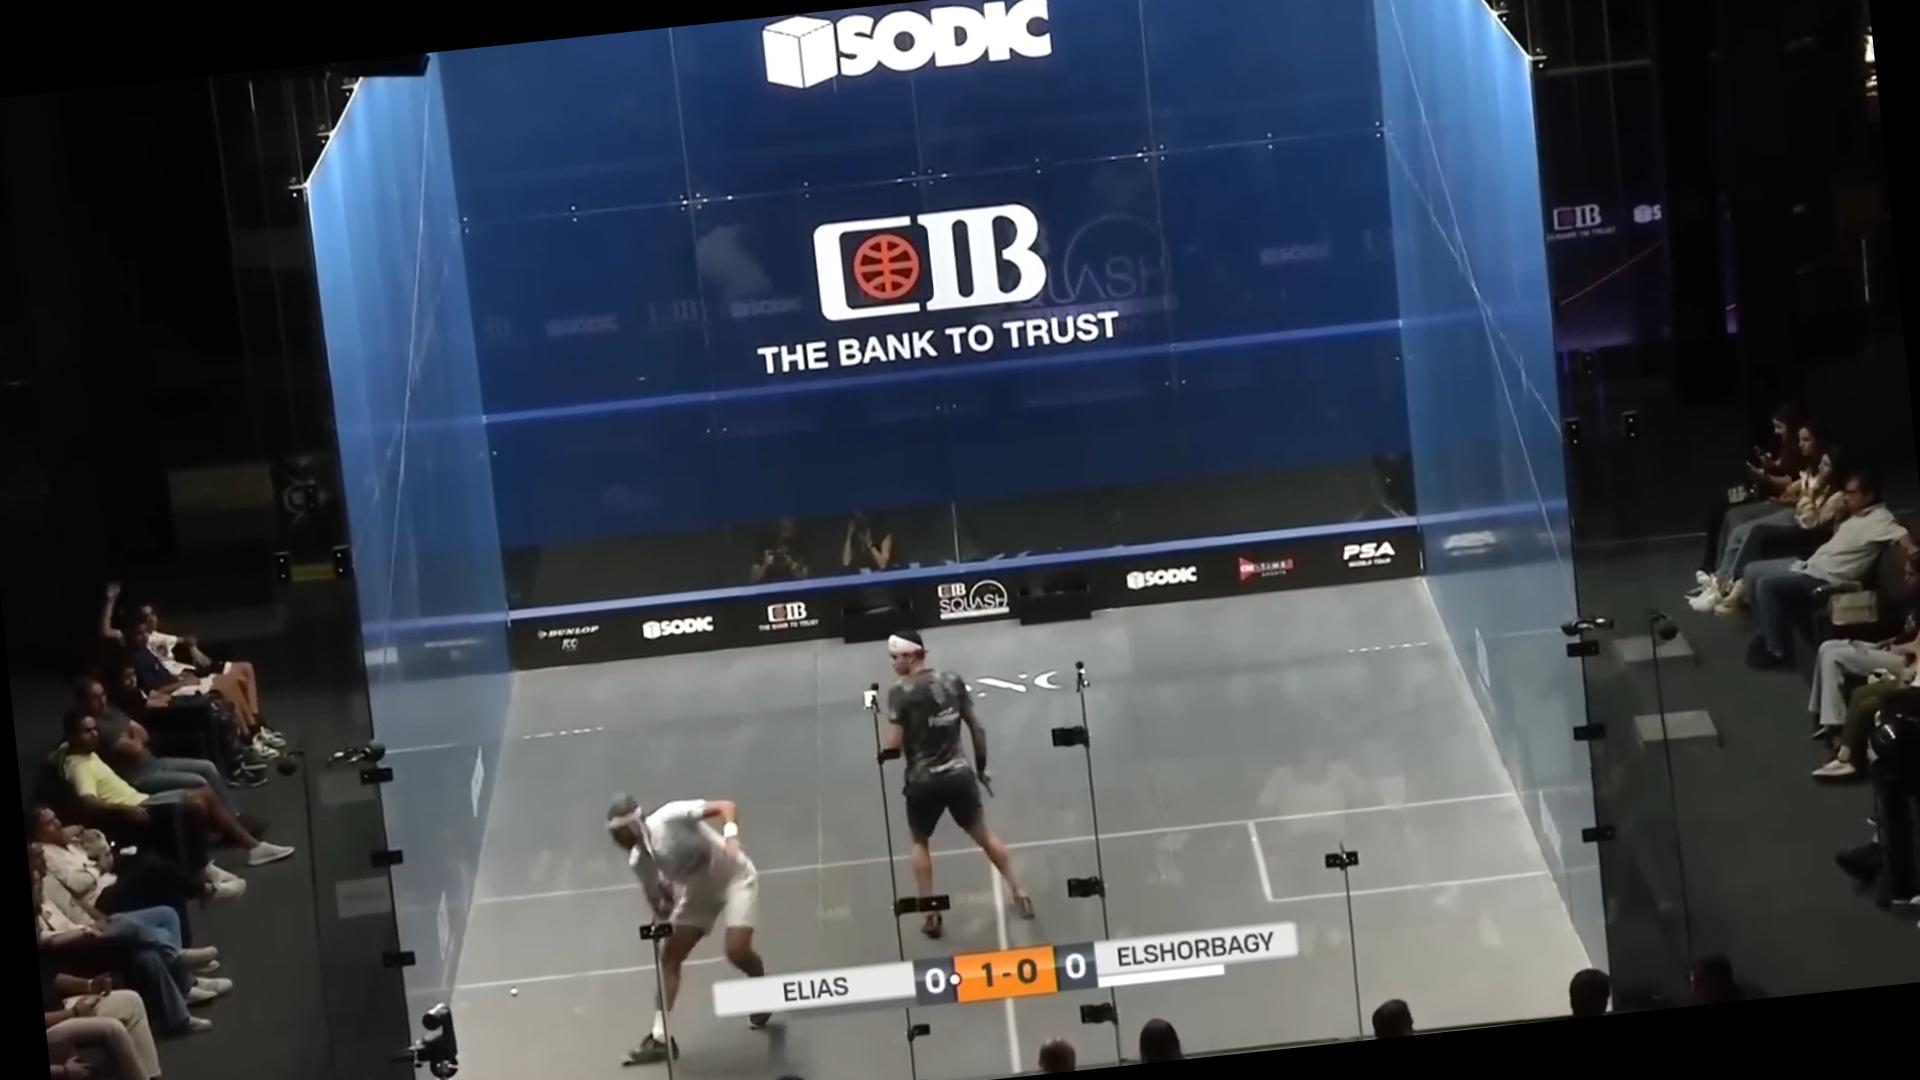Squash-Ball: (497, 975, 530, 1011)
